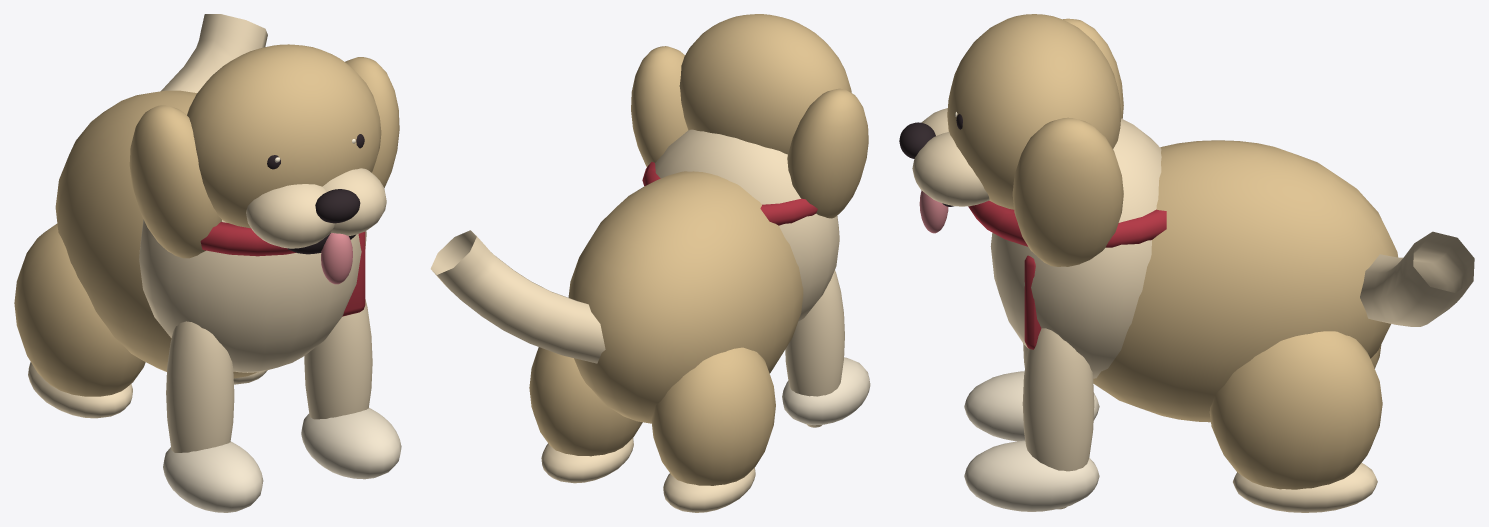
Rendered from toto.glb.
The picture shows the model from 3 angles, left to right: view 1: azimuth 30°, elevation 25°; view 2: azimuth 150°, elevation 25°; view 3: azimuth 270°, elevation 25°; orthographic projection. The views are drawn at different scales.
Visible parts, largest first — view 1: Head, Chest, Body, Back haunch, Floppy ear, Front leg, Front leg.001, White paw.001, White paw, Muzzle, Fluffy tail, Floppy ear.001 (+6 smaller); view 2: Body, Head, Back haunch, Fluffy tail, Chest, Floppy ear, Back haunch.001, Front leg, Floppy ear.001, White paw, Back paw, Back paw.001 (+1 smaller); view 3: Body, Back haunch.001, Head, Chest, Floppy ear.001, Front leg.001, Fluffy tail, White paw.001, Back paw.001, Muzzle.001, White paw, Red scarf (+4 smaller).
Part boxes in pixels (x1,y1,x2,y2): Head: [187, 44, 381, 228]; Chest: [139, 219, 366, 372]; Body: [55, 90, 258, 378]; Back haunch: [14, 224, 145, 396]; Floppy ear: [129, 105, 221, 258]; Front leg: [166, 321, 234, 452]; Front leg.001: [304, 299, 372, 419]; White paw.001: [301, 408, 401, 479]; White paw: [163, 441, 263, 512]; Muzzle: [246, 184, 334, 248]; Fluffy tail: [161, 14, 267, 92]; Floppy ear.001: [345, 57, 399, 187]; Body: [568, 171, 803, 423]; Head: [679, 14, 851, 154]; Back haunch: [651, 347, 775, 485]; Fluffy tail: [430, 230, 605, 363]; Chest: [655, 129, 839, 321]; Floppy ear: [787, 88, 868, 218]; Back haunch.001: [529, 347, 642, 456]; Front leg: [785, 270, 844, 427]; Floppy ear.001: [631, 46, 687, 166]; White paw: [782, 357, 870, 425]; Back paw: [663, 467, 755, 512]; Back paw.001: [541, 438, 633, 483]; Body: [1093, 140, 1398, 422]; Back haunch.001: [1209, 331, 1382, 489]; Head: [947, 14, 1121, 209]; Chest: [990, 118, 1161, 378]; Floppy ear.001: [1012, 117, 1123, 266]; Front leg.001: [1022, 328, 1094, 509]; Fluffy tail: [1360, 231, 1474, 326]; White paw.001: [964, 440, 1099, 511]; Back paw.001: [1233, 463, 1377, 512]; Muzzle.001: [912, 132, 989, 206]; White paw: [964, 371, 1099, 441]; Red scarf: [968, 200, 1166, 247].
Size of the model in its own units: 0.7508 by 1.02 by 1.19.
